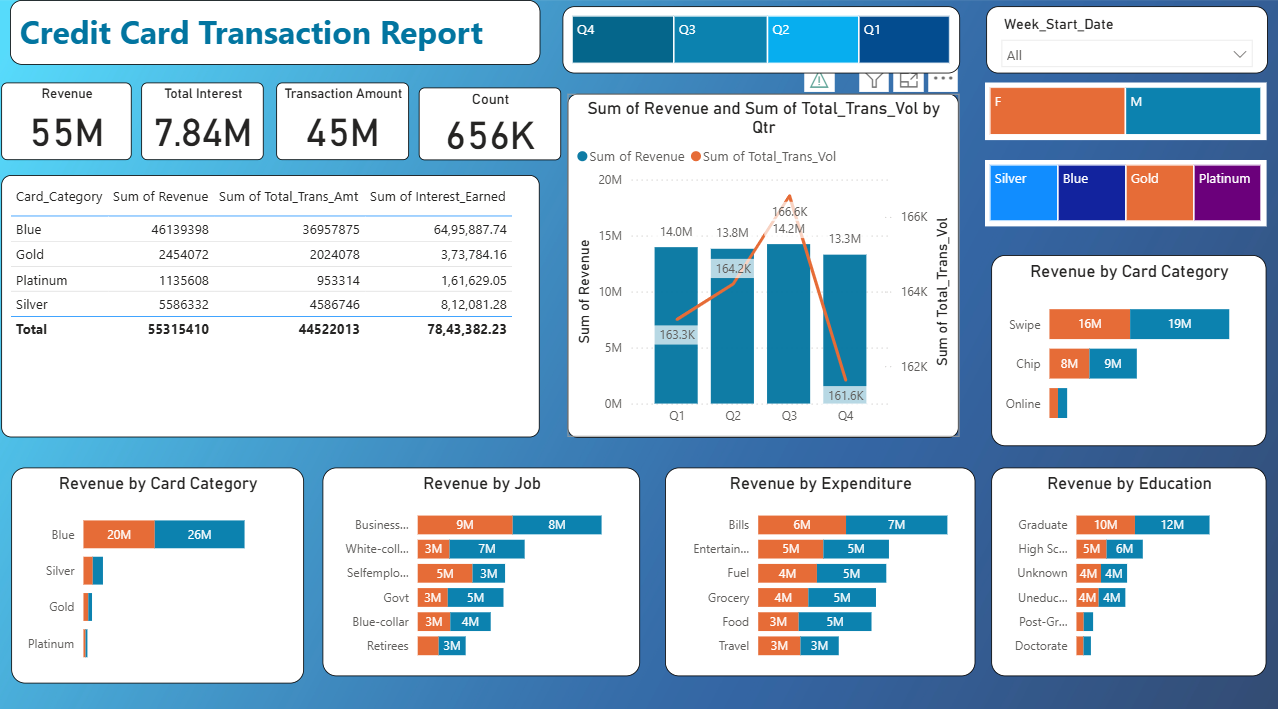

This screenshot's page, from the dashboard's own definition file:
{"tool":"powerbi","page":{"name":"CC Transaction","canvas":[1280,720],"ordinal":1},"visuals":[{"type":"textbox","box":[10,0,530,65],"z":0},{"type":"lineStackedColumnComboChart","fields":{"Category":["credit_card.Qtr"],"Y":["Sum(credit_card.Revenue)"],"Y2":["Sum(credit_card.Total_Trans_Vol)"]},"box":[567.5,93.8,391.2,343.8],"z":1000},{"type":"barChart","title":"Revenue by Expenditure","fields":{"Category":["credit_card.Exp Type"],"Series":["customer (1).Gender"],"Y":["Sum(credit_card.Revenue)"]},"box":[665,467.5,310,208.8],"z":2000},{"type":"barChart","title":"Revenue by Education","fields":{"Category":["customer (1).Education_Level"],"Series":["customer (1).Gender"],"Y":["Sum(credit_card.Revenue)"]},"box":[991.2,467.5,275,208.8],"z":3000},{"type":"barChart","title":"Revenue by Card Category","fields":{"Category":["credit_card.Card_Category"],"Series":["customer (1).Gender"],"Y":["Sum(credit_card.Revenue)"]},"box":[11.2,467.5,292.5,216.2],"z":4000},{"type":"barChart","title":"Revenue by Job","fields":{"Category":["customer (1).Customer_Job"],"Series":["customer (1).Gender"],"Y":["Sum(credit_card.Revenue)"]},"box":[322.5,467.5,317.5,208.8],"z":5000},{"type":"barChart","title":"Revenue by Card Category","fields":{"Category":["credit_card.Use Chip"],"Series":["customer (1).Gender"],"Y":["Sum(credit_card.Revenue)"]},"box":[991.2,255,275,191.2],"z":6000},{"type":"tableEx","fields":{"Values":["credit_card.Card_Category","Sum(credit_card.Revenue)","Sum(credit_card.Total_Trans_Amt)","Sum(credit_card.Interest_Earned)"]},"box":[1.2,175,538.8,262.5],"z":7000},{"type":"slicer","fields":{"Values":["credit_card.Week_Start_Date"]},"box":[986.2,6.2,281.2,67.5],"z":8000},{"type":"treemap","fields":{"Group":["credit_card.Qtr"],"Values":["Avg(customer (1).Client_Num)"]},"box":[562.5,6.2,397.5,67.5],"z":9000},{"type":"treemap","fields":{"Group":["customer (1).Gender"],"Values":["Avg(customer (1).Client_Num)"]},"box":[985,82.5,281.2,57.5],"z":10000},{"type":"treemap","fields":{"Group":["credit_card.Card_Category"],"Values":["Avg(customer (1).Client_Num)"]},"box":[985,160,281.2,66.2],"z":11000},{"type":"card","title":"Revenue","fields":{"Values":["Sum(credit_card.Revenue)"]},"box":[1.2,82.5,130,77.5],"z":12000},{"type":"card","title":"Total Interest","fields":{"Values":["Sum(credit_card.Interest_Earned)"]},"box":[141.2,82.5,122.5,77.5],"z":13000},{"type":"card","title":"Transaction Amount","fields":{"Values":["Sum(credit_card.Total_Trans_Amt)"]},"box":[276.2,82.5,132.5,77.5],"z":14000},{"type":"card","title":"Count","fields":{"Values":["Sum(credit_card.Total_Trans_Vol)"]},"box":[418.8,87.5,142.5,72.5],"z":15000}]}

Visuals, with their boxes in screenshot pixels (x1, y1, x2, y2), scaled from the page's 1280x720 canvas onto the 1278x709 screenshot:
textbox: bbox(10, 0, 539, 64)
lineStackedColumnComboChart - credit_card.Qtr x Sum(credit_card.Revenue): bbox(567, 92, 957, 431)
"Revenue by Expenditure" barChart: bbox(664, 460, 973, 666)
"Revenue by Education" barChart: bbox(990, 460, 1264, 666)
"Revenue by Card Category" barChart: bbox(11, 460, 303, 673)
"Revenue by Job" barChart: bbox(322, 460, 639, 666)
"Revenue by Card Category" barChart: bbox(990, 251, 1264, 439)
tableEx - credit_card.Card_Category x Sum(credit_card.Revenue): bbox(1, 172, 539, 431)
slicer - credit_card.Week_Start_Date: bbox(985, 6, 1265, 73)
treemap - credit_card.Qtr x Avg(customer (1).Client_Num): bbox(562, 6, 958, 73)
treemap - customer (1).Gender x Avg(customer (1).Client_Num): bbox(983, 81, 1264, 138)
treemap - credit_card.Card_Category x Avg(customer (1).Client_Num): bbox(983, 158, 1264, 223)
"Revenue" card: bbox(1, 81, 131, 158)
"Total Interest" card: bbox(141, 81, 263, 158)
"Transaction Amount" card: bbox(276, 81, 408, 158)
"Count" card: bbox(418, 86, 560, 158)
